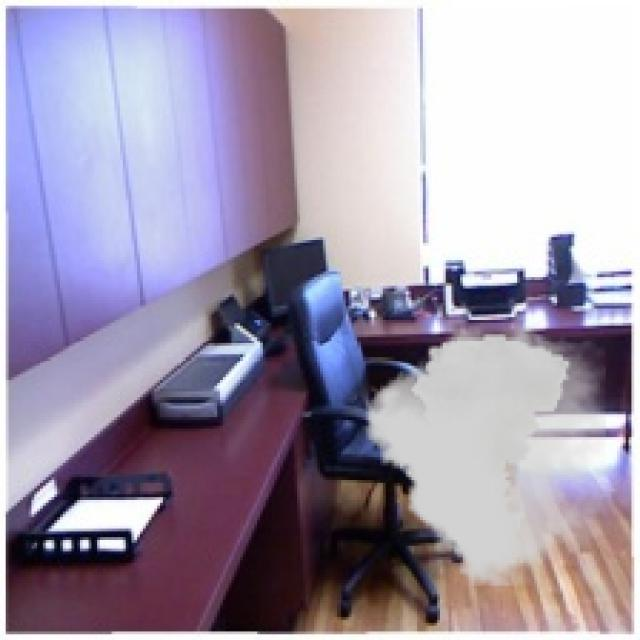smoke: (366, 323, 606, 586)
